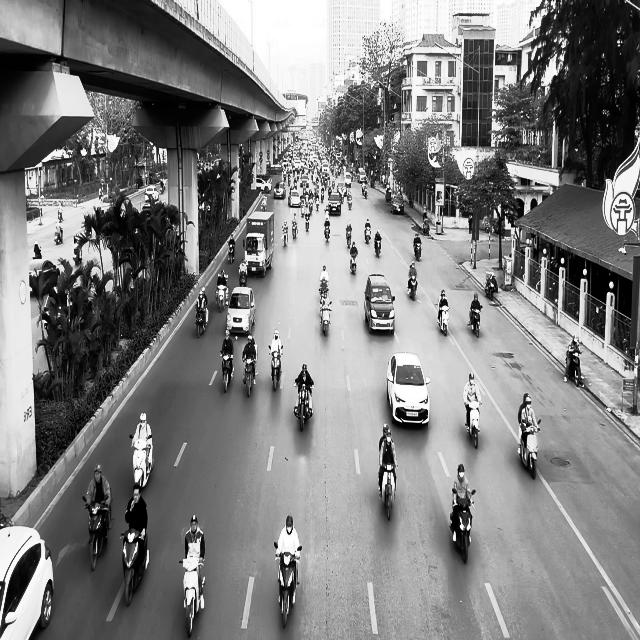car: (0, 523, 54, 639), (386, 351, 431, 426), (364, 274, 396, 335), (226, 286, 256, 337), (29, 258, 61, 296), (328, 192, 342, 215), (390, 195, 404, 214), (145, 185, 159, 202), (288, 190, 301, 207), (274, 181, 286, 199)
motorbike: (82, 490, 114, 571), (274, 542, 302, 628), (120, 526, 150, 606), (179, 558, 206, 637), (450, 488, 476, 564), (518, 418, 542, 479), (130, 434, 154, 489), (379, 463, 397, 520), (294, 381, 314, 432), (466, 401, 482, 449), (565, 350, 585, 388), (269, 345, 283, 391), (243, 356, 257, 398), (220, 351, 234, 392), (320, 299, 333, 336), (195, 304, 208, 337), (437, 303, 450, 335), (469, 306, 482, 338), (215, 284, 228, 312), (485, 272, 498, 299), (408, 274, 418, 300), (54, 224, 64, 244), (350, 250, 358, 274), (239, 265, 247, 287), (414, 240, 422, 261), (228, 242, 235, 264), (374, 238, 382, 257), (364, 225, 372, 243), (324, 222, 330, 242), (282, 226, 288, 246), (292, 219, 298, 239)
truck: (243, 211, 274, 277)
